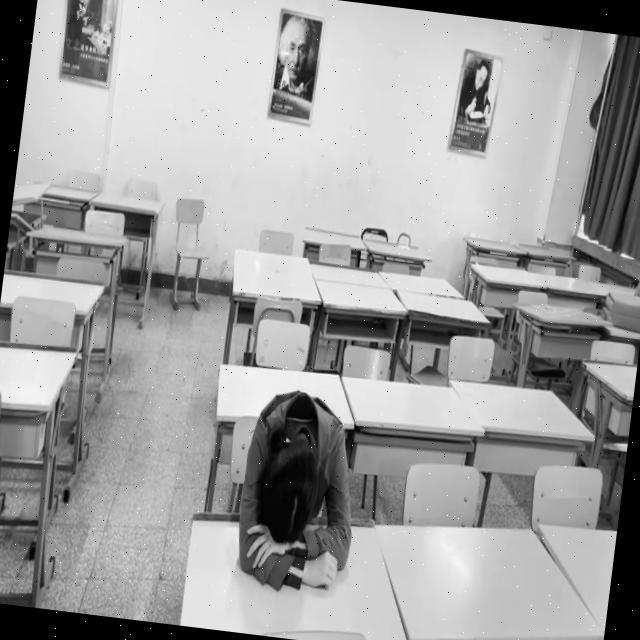sleep: (230, 380, 369, 593)
